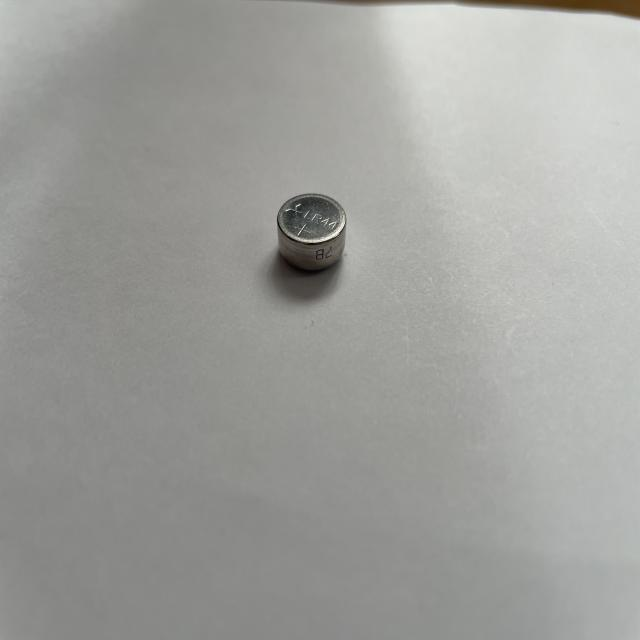COIN: (274, 190, 351, 272)
